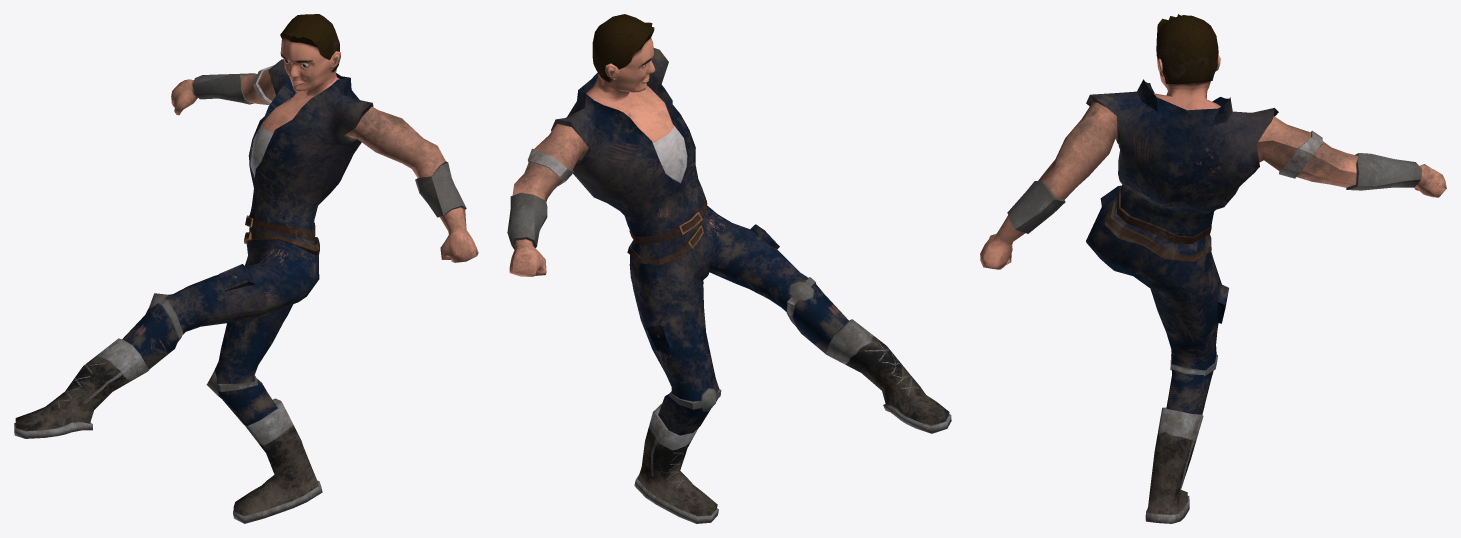
The model's file is Anim_ataque_f3_jugador.0033.obj.
3 views of the same model, side by side, from view 1: azimuth 30°, elevation 25°; view 2: azimuth 150°, elevation 25°; view 3: azimuth 270°, elevation 25° (orthographic). The views are drawn at different scales.
Parts seen in each view (by area): view 1: polySurface1; view 2: polySurface1; view 3: polySurface1.
Part boxes in pixels (left/top/right/bottom): polySurface1: left=14, top=14, right=478, bottom=523; polySurface1: left=507, top=14, right=951, bottom=523; polySurface1: left=980, top=14, right=1446, bottom=523.
Size of the model in its own units: 7.79 by 9.26 by 7.45.
